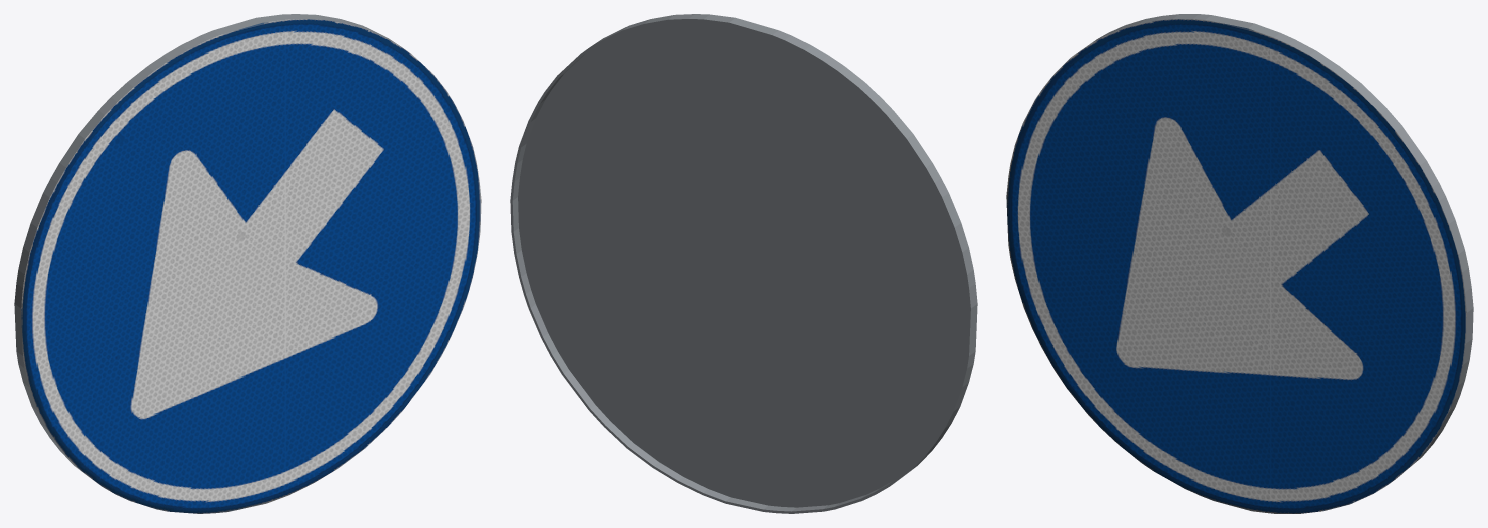
The picture shows the model from 3 angles, left to right: view 1: azimuth 30°, elevation 25°; view 2: azimuth 150°, elevation 25°; view 3: azimuth 330°, elevation 25°; orthographic projection.
Visible parts, largest first — view 1: cat_a865a75f3e87e950; view 2: cat_a865a75f3e87e950; view 3: cat_a865a75f3e87e950.
Boxes of the visible parts, x1,y1,x2,y2 form: cat_a865a75f3e87e950: (14,14,481,513); cat_a865a75f3e87e950: (510,14,977,513); cat_a865a75f3e87e950: (1006,14,1473,513).
Size of the model in its own units: 0.6 by 0.015 by 0.6.
Materials: 2 (1 with a texture image).
